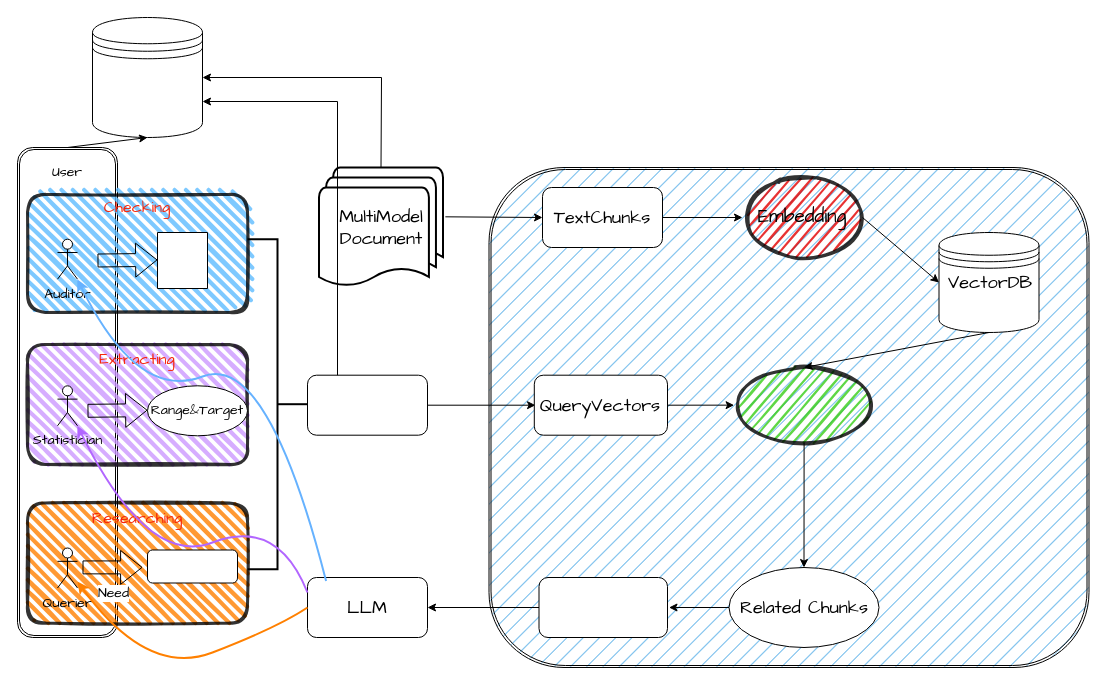
This 1107x685 diagram has some shape labels left out. Each missing label, with the box of its shape:
Prompt: (538, 576, 668, 638)
Proof Docs: (156, 232, 208, 288)
Query: (306, 374, 428, 435)
Related Docs: (146, 549, 238, 583)
Relational Database: (92, 16, 202, 138)
Similarity Research: (732, 366, 875, 444)
